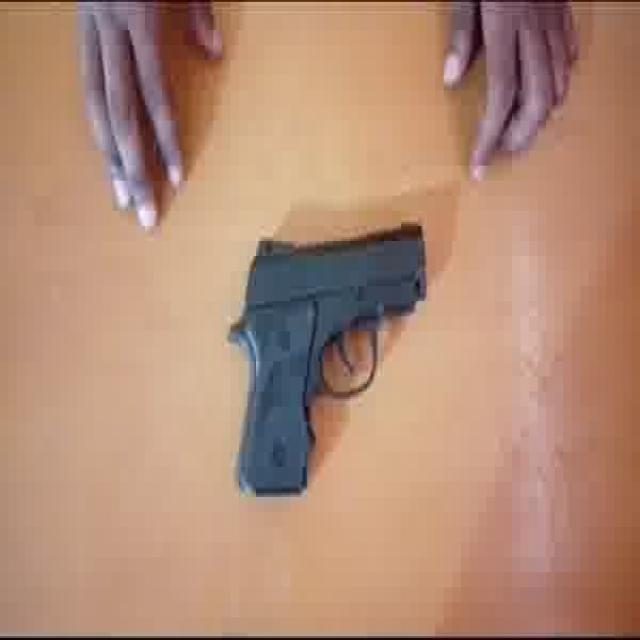weapon: (226, 215, 428, 498)
